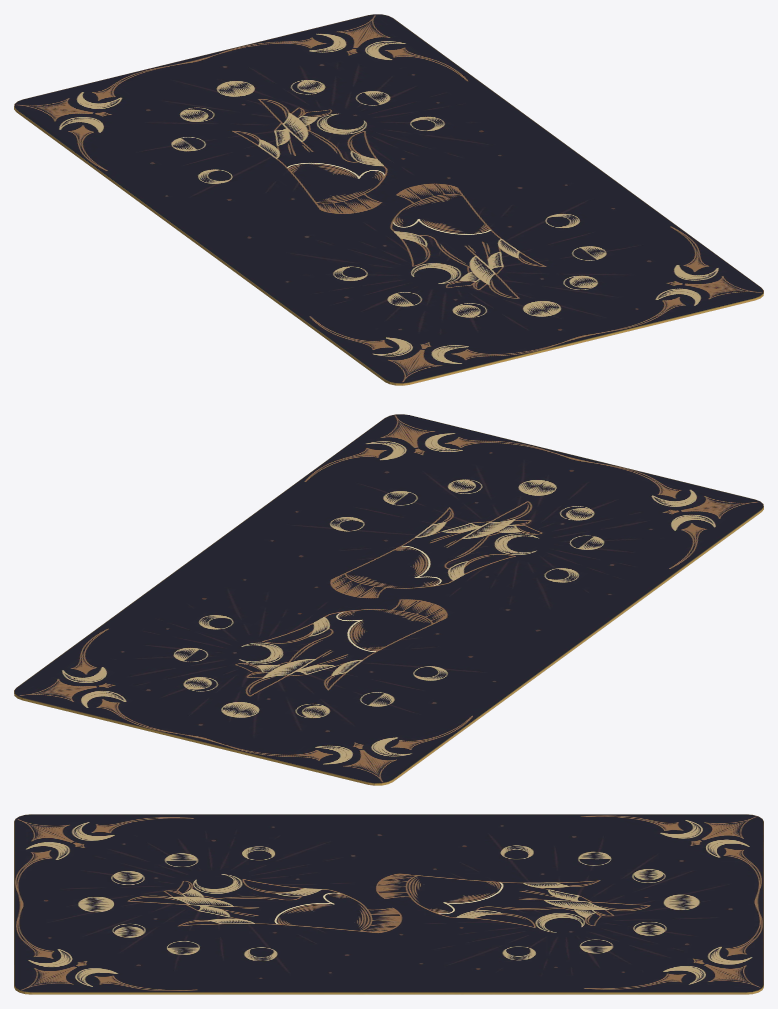
Rendered from tarrot_deck.glb.
The picture shows the model from 3 angles, top to bottom: view 1: azimuth 30°, elevation 25°; view 2: azimuth 150°, elevation 25°; view 3: azimuth 270°, elevation 25°; orthographic projection. The views are drawn at different scales.
Parts seen in each view (by area): view 1: Empty.001; view 2: Empty.001; view 3: Empty.001.
Part boxes in pixels (bbox=[...]): Empty.001: bbox=[14, 14, 763, 385]; Empty.001: bbox=[14, 414, 763, 785]; Empty.001: bbox=[14, 814, 763, 994].
Size of the model in its own units: 1.13 by 0.0066 by 2.
1 material, 1 textured.
